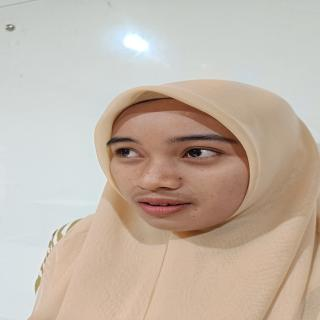Takut: (92, 99, 275, 237)
